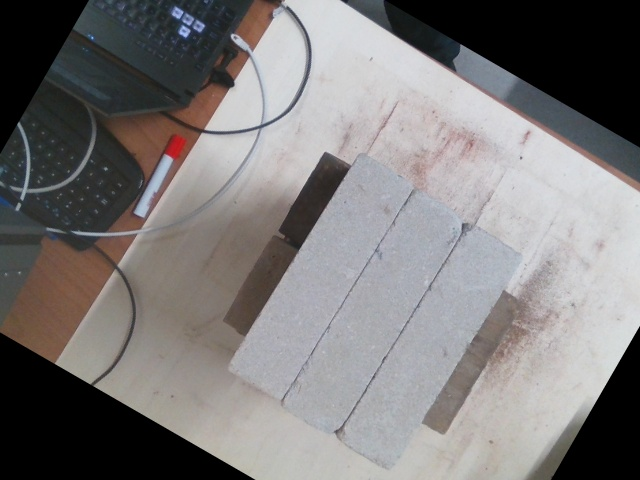brick-side: (337, 224, 524, 470), (283, 187, 469, 433), (227, 155, 413, 401)
